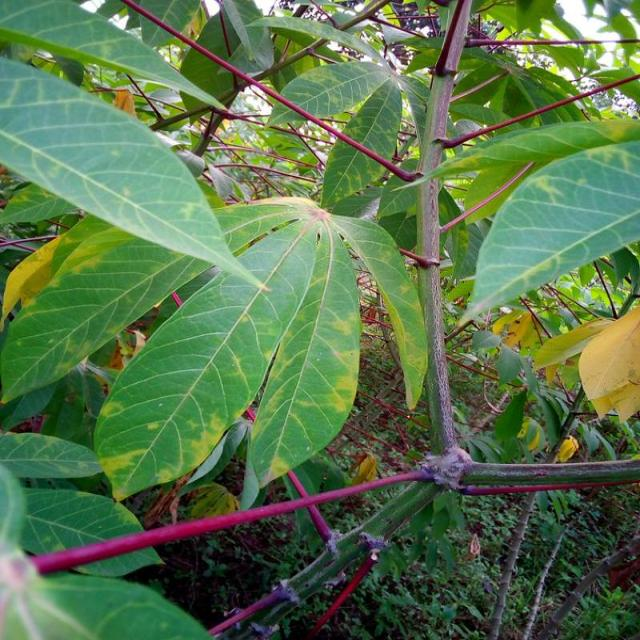cassava leaf: (92, 196, 322, 502), (0, 54, 266, 291), (457, 136, 638, 328)
